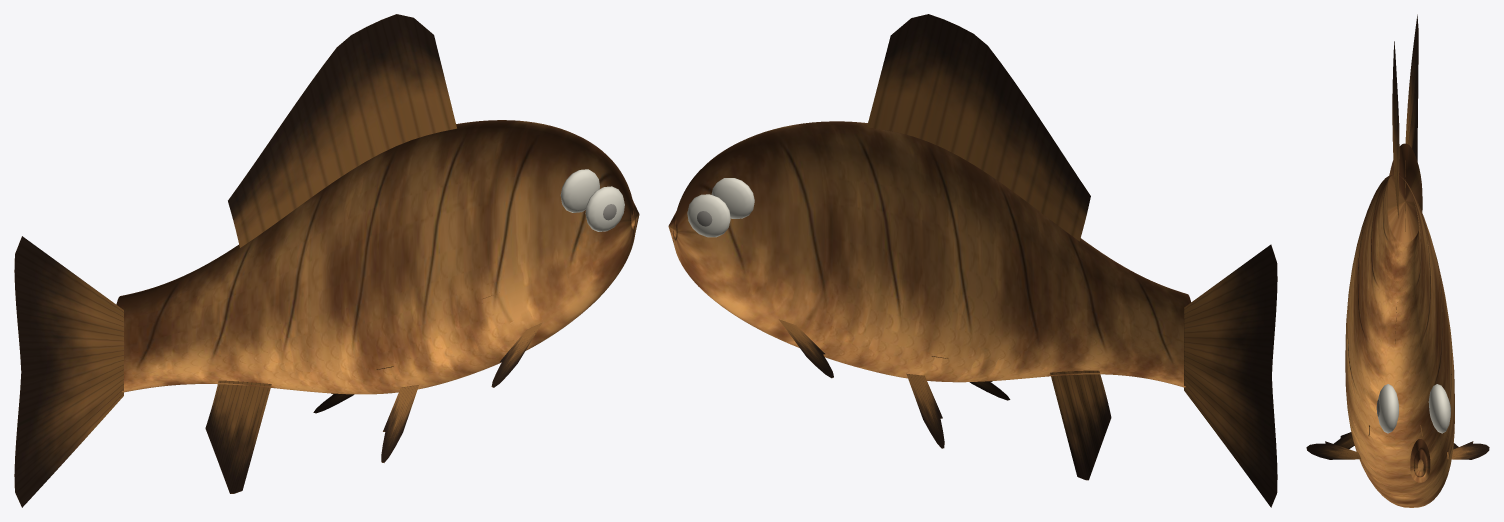
Rendered from fish_crucian_cooked.gltf.
3 renders of one model, left to right at view 1: azimuth 30°, elevation 25°; view 2: azimuth 150°, elevation 25°; view 3: azimuth 270°, elevation 25°, orthographic. The views are drawn at different scales.
Visible parts, largest first — view 1: fish_crucian_cooked; view 2: fish_crucian_cooked; view 3: fish_crucian_cooked.
Boxes of the visible parts, <box> form: fish_crucian_cooked: <box>14,14,639,507</box>; fish_crucian_cooked: <box>668,14,1277,507</box>; fish_crucian_cooked: <box>1306,14,1489,507</box>.
Size of the model in its own units: 0.1977 by 0.1329 by 0.0481.
Materials: 6 (4 with a texture image).
